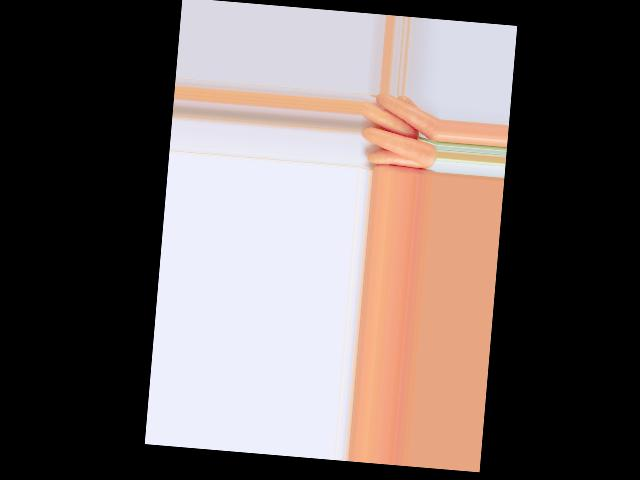carrot: (364, 148, 433, 173)
